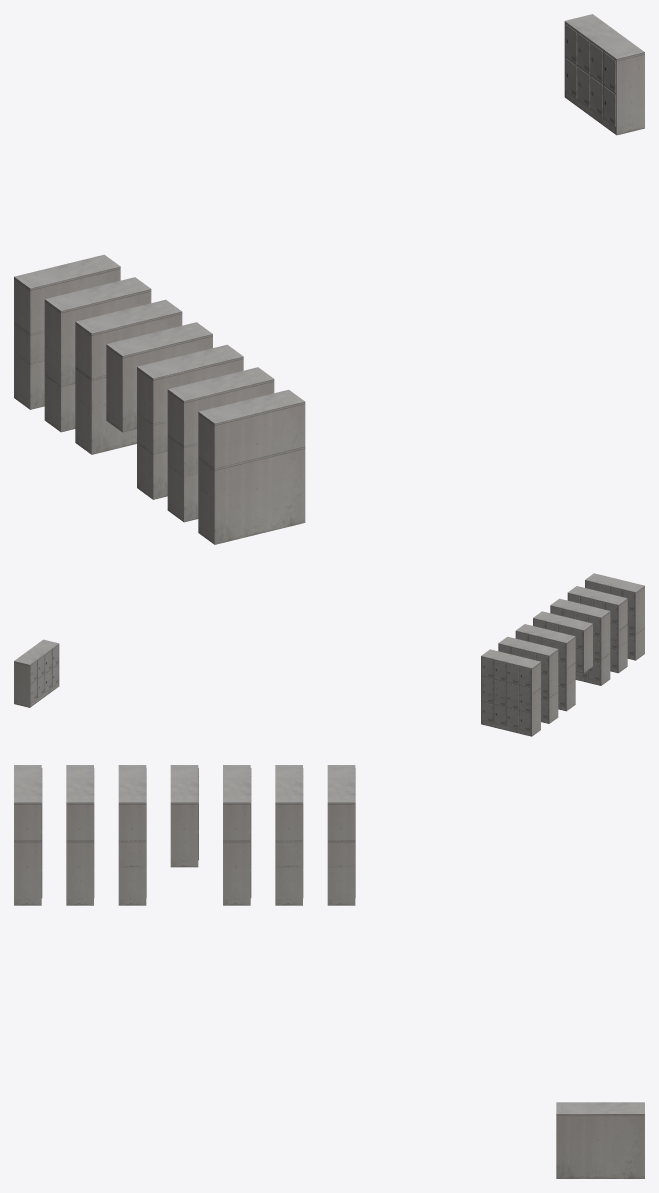
Rendered from LockerGroup.fbx.
The picture shows the model from 3 angles, top to bottom: view 1: azimuth 30°, elevation 25°; view 2: azimuth 150°, elevation 25°; view 3: azimuth 270°, elevation 25°; orthographic projection. The views are drawn at different scales.
Visible parts, largest first — view 1: Lockers (×14); view 2: Lockers (×14); view 3: Lockers (×14).
Boxes of the visible parts, box(x1,y1,x2,y2) form: Lockers (×14): box(14, 14, 644, 544); Lockers (×14): box(14, 573, 644, 736); Lockers (×14): box(14, 765, 644, 1178).
Bounding box in the file's own units: 17.45 × 2.7 × 14.97.
Materials: 1 (1 with a texture image).
